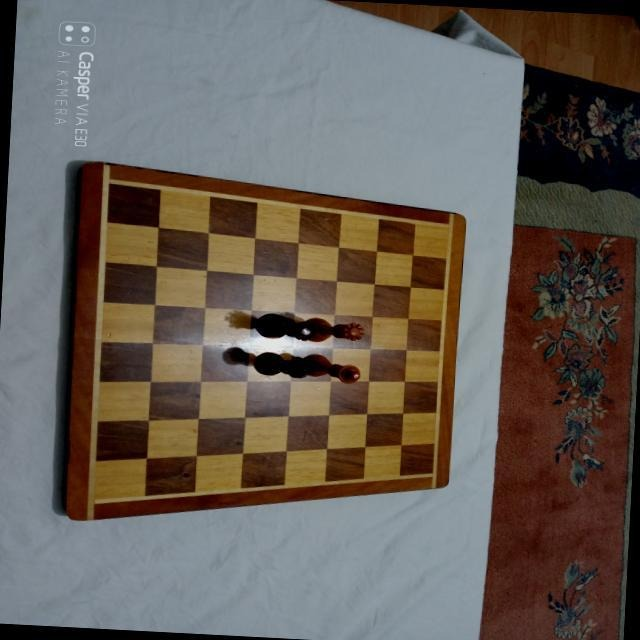black-king: (252, 350, 312, 378)
black-queen: (254, 312, 318, 340)
white-king: (302, 352, 362, 383)
white-queen: (302, 316, 366, 344)
